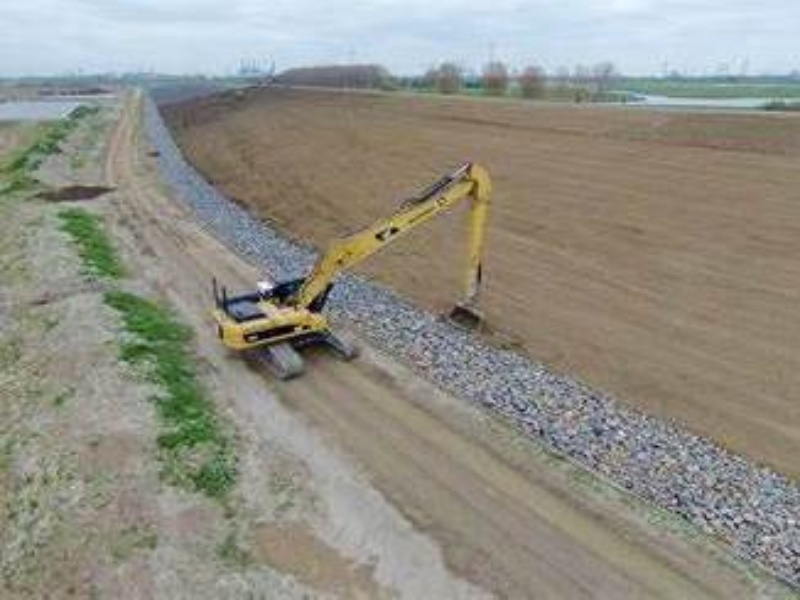excavator: (209, 162, 494, 381)
